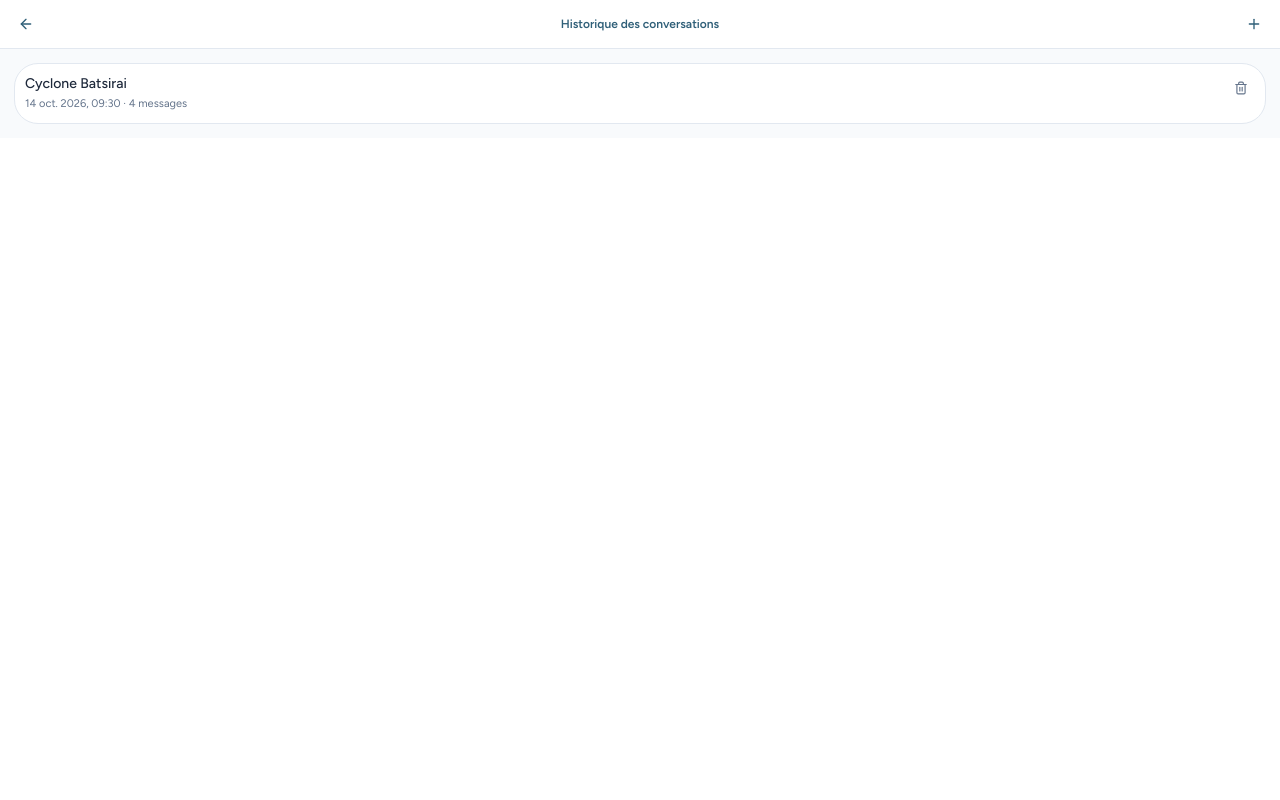
Test case: AiChatHistory — suppression › affiche l’erreur du serveur quand la suppression échoue
The width and height of the screenshot is (1280, 800).
Click the button named "Supprimer la conversation « Cyclone Batsirai »".
click(1241, 88)  # box [1227,74,1255,102]
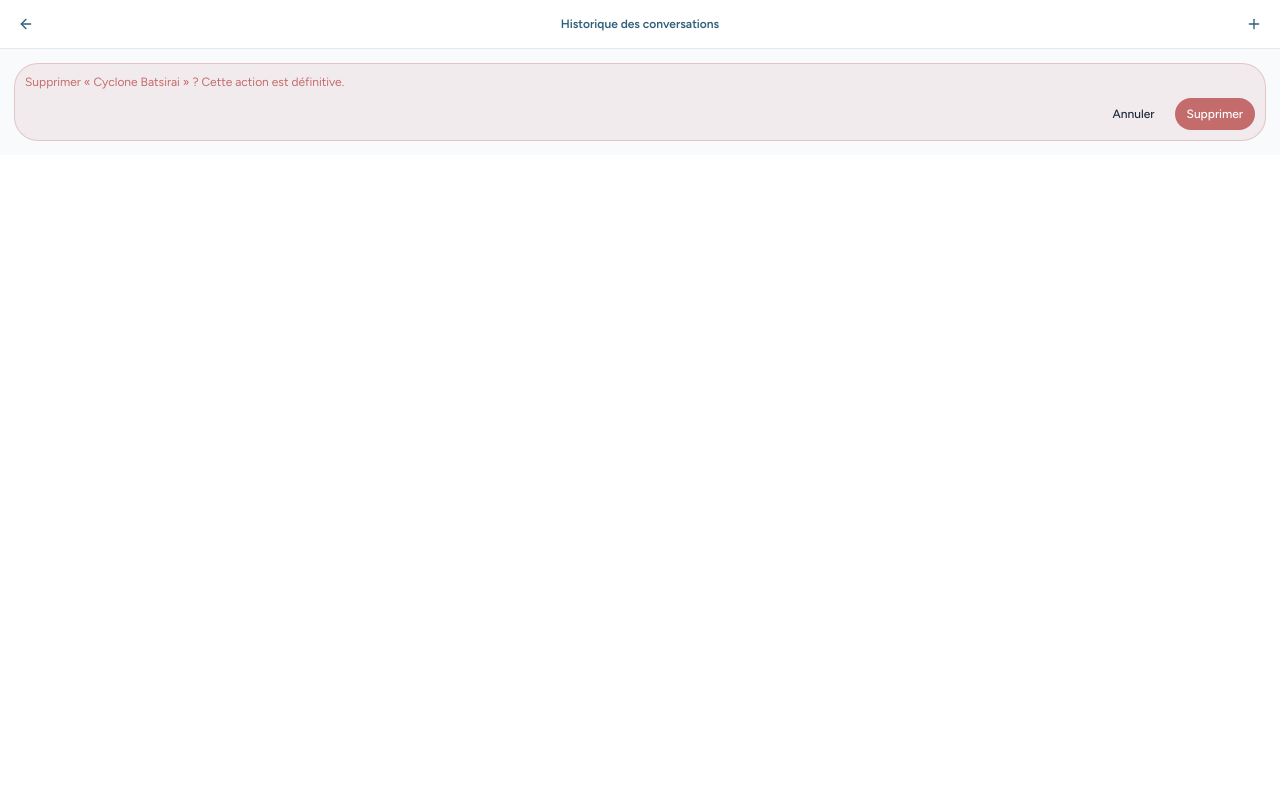
Click the button "Supprimer".
click(1215, 114)  # box [1174,98,1255,130]
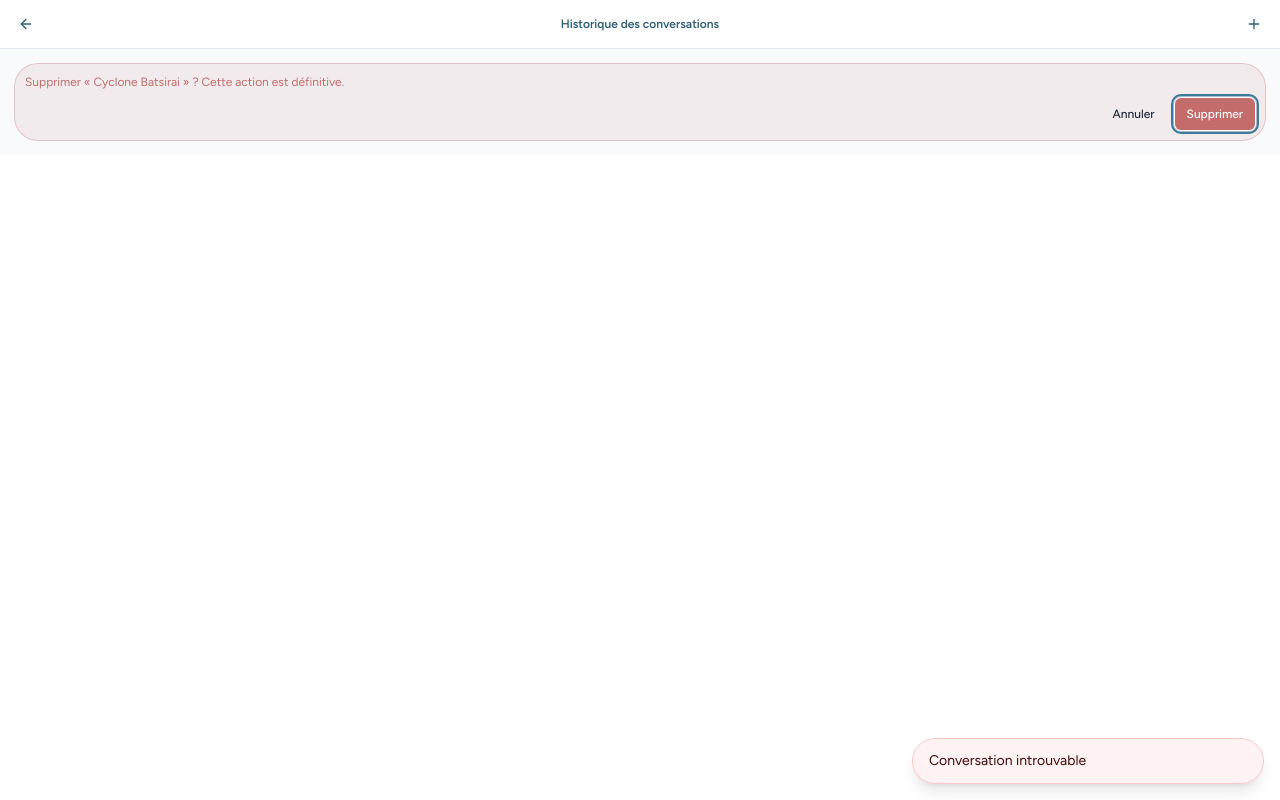
Check: the text "Conversation introuvable" is shown, box [912,738,1264,784]
